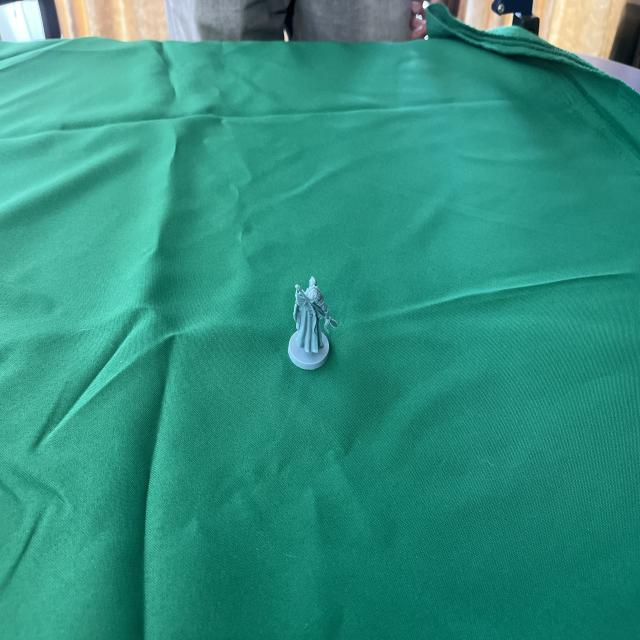isis_follower: (282, 272, 344, 369)
